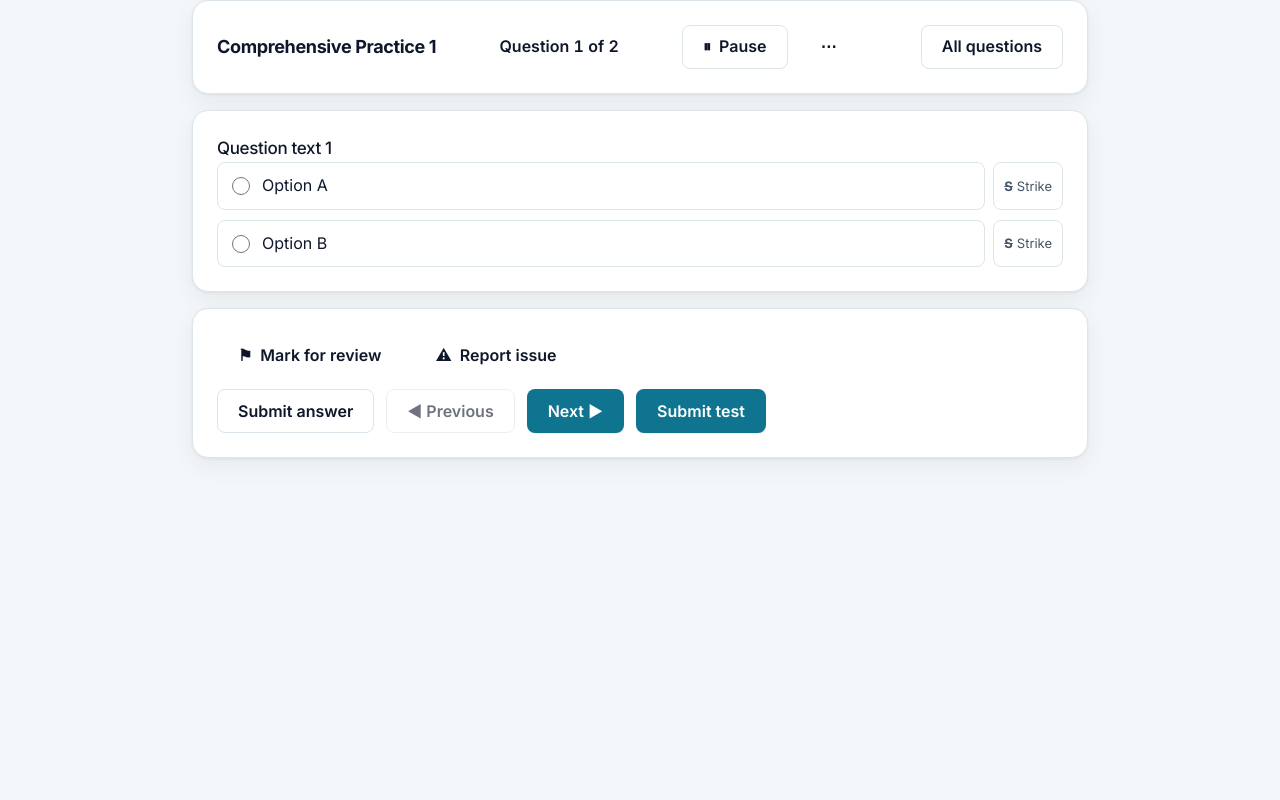
Test case: AttemptPlayer › offers Continue here when another device has taken the attempt
This screenshot has width=1280, height=800.
What coordinates should you click on to do the following:
click the button "Next ▶"
I would click on:
 (575, 411)
Its box is [527,389,624,433].
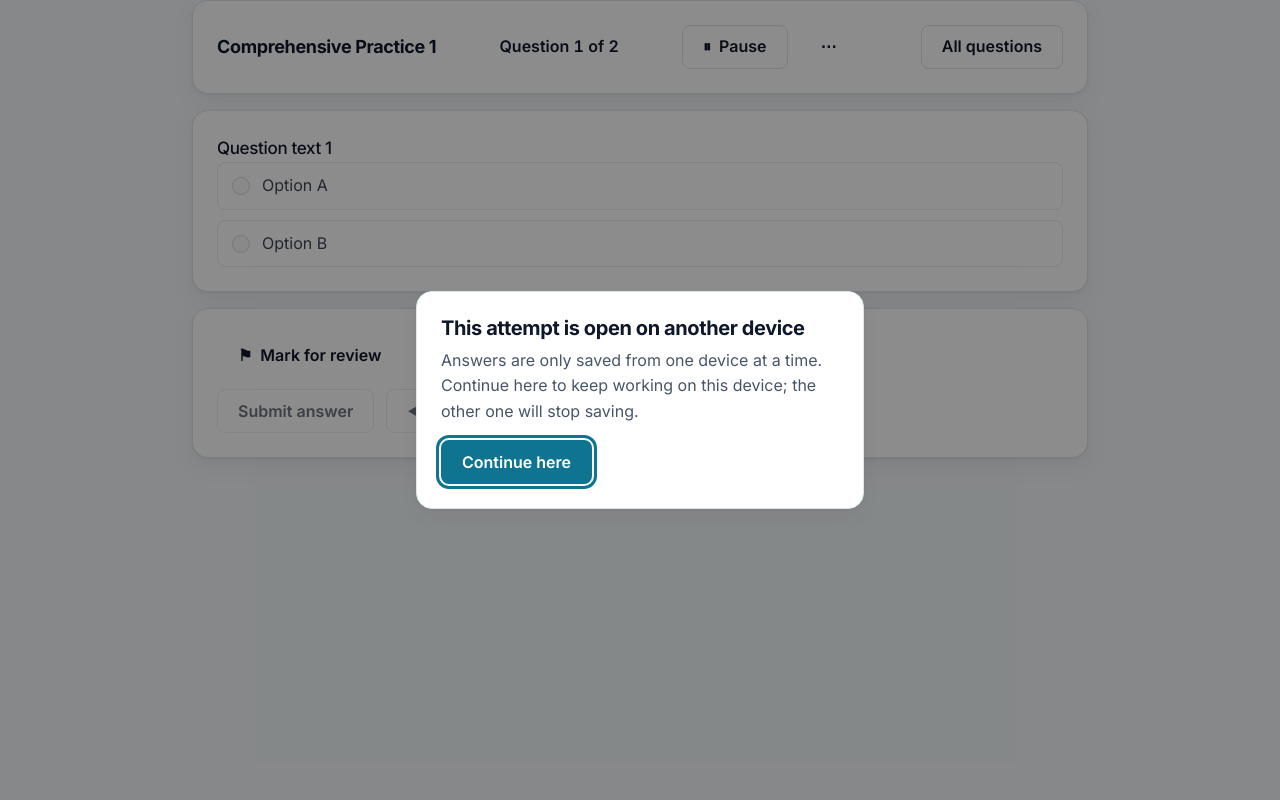
What coordinates should you click on to do the following:
click the button "Continue here"
I would click on:
 (516, 462)
Its box is [441,440,592,484].
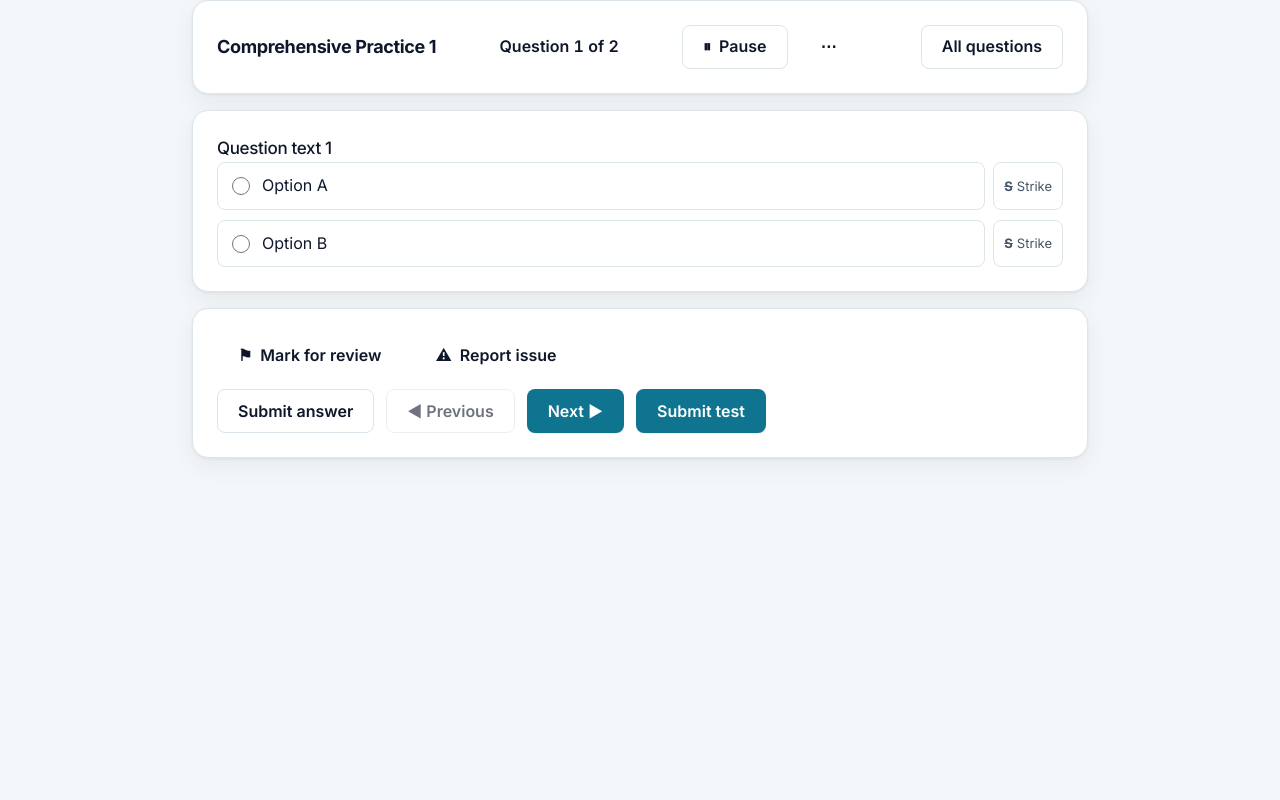
Expected: the dialog is gone
